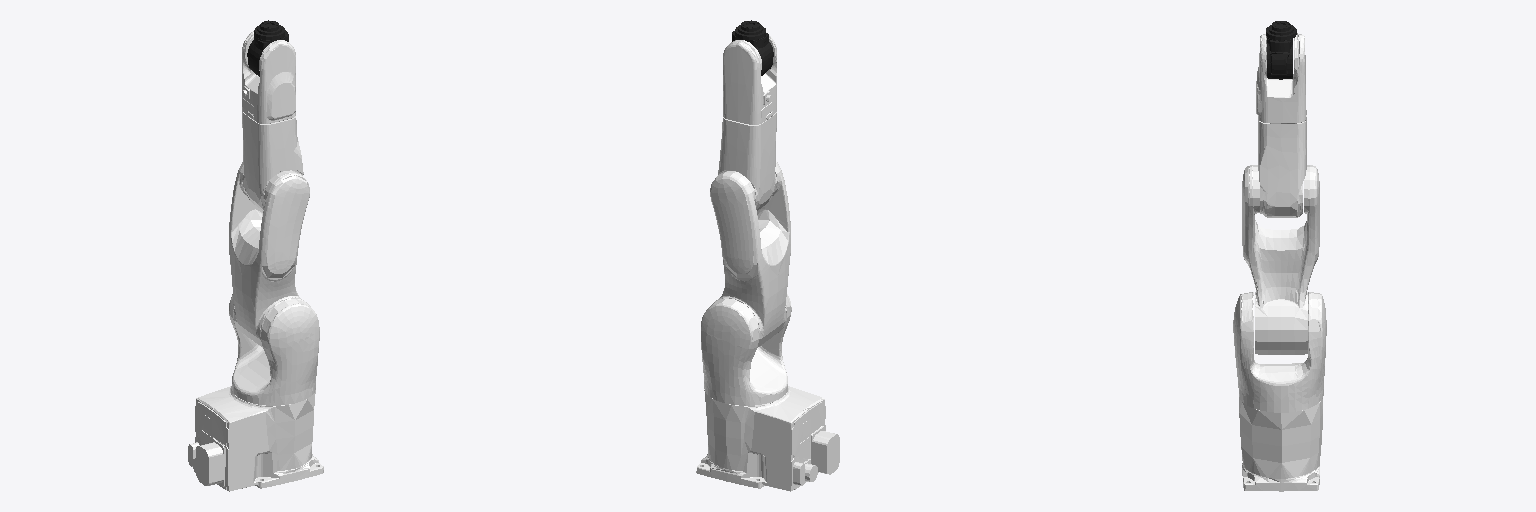
URDF robot description (vs060):
<?xml version="1.0" ?>
<robot name="vs060">
	<material name="black">
		<color rgba="0.2 0.2 0.2 1.0"/>
	</material>
	<material name="blue">
		<color rgba="0.0 0.0 0.8 1.0"/>
	</material>
	<material name="green">
		<color rgba="0.0 0.8 0.0 1.0"/>
	</material>
	<material name="grey">
		<color rgba="0.2 0.2 0.2 1.0"/>
	</material>
	<material name="red">
		<color rgba="0.8 0.0 0.0 1.0"/>
	</material>
	<material name="red_transparent">
		<color rgba="0.8 0.0 0.0 0.5"/>
	</material>
	<material name="white">
		<color rgba="1.0 1.0 1.0 1.0"/>
	</material>
	<material name="orange">
		<color rgba="1.0 0.423529411765 0.0392156862745 1.0"/>
	</material>
	<material name="brown">
		<color rgba="0.870588235294 0.811764705882 0.764705882353 1.0"/>
	</material>
	<material name="metal">
		<color rgba="0.827450980392 0.827450980392 0.827450980392 1.0"/>
	</material>
	<material name="wood">
		<color rgba="0.803921568627 0.521568627451 0.247058823529 1.0"/>
	</material>
	
	<gazebo>
		<plugin filename="libgazebo_ros_control.so" name="gazebo_ros_control">
			<robotNamespace>/vs060</robotNamespace>
		</plugin>
	</gazebo>
	<link name="world_1" />
	<joint name="joint_w" type="fixed">
		<parent link="world_1" />
		<child link="base_link" />
	</joint>
	<link name="base_link">
		<visual>
			<origin rpy="0 0 0" xyz="0 0 0" />
			<geometry>
				<mesh filename="package://denso060/base_link.obj" scale="1 1 1" />
			</geometry>
			<material name="white"/>
		</visual>
		<collision>
			<origin rpy="0 0 0" xyz="0 0 0" />
			<geometry>
				<mesh filename="package://denso060/base_link.obj" scale="1 1 1" />
			</geometry>
		</collision>
		<inertial>
			<mass value="1" />
			<origin rpy="0.000000 0.000000 0.000000" xyz="0.000000 0.000000 0.000000" />
			<inertia ixx="1" ixy="0" ixz="0" iyy="1" iyz="0" izz="1" />
		</inertial>
	</link>
	<link name="J1">
		<visual>
			<origin rpy="0 0 0" xyz="0 0 0" />
			<geometry>
				<mesh filename="package://denso060/J1.obj" scale="1 1 1" />
			</geometry>
			<material name="white"/>
		</visual>
		<collision>
			<origin rpy="0 0 0" xyz="0 0 0" />
			<geometry>
				<mesh filename="package://denso060/J1.obj" scale="1 1 1" />
			</geometry>
		</collision>
		<inertial>
			<mass value="1" />
			<origin rpy="0.000000 0.000000 0.000000" xyz="0.000000 0.000000 0.000000" />
			<inertia ixx="1" ixy="0" ixz="0" iyy="1" iyz="0" izz="1" />
		</inertial>
	</link>
	<joint name="joint_1" type="revolute">
		<parent link="base_link" />
		<child link="J1" />
		<origin rpy="0.000000 0.000000 0.000000" xyz="0.000000 0.000000 0.181500" />
		<axis xyz="-0.000000 -0.000000 1.000000" />
		<limit effort="1" lower="-2.96706" upper="2.96706" velocity="3.92699081698724" />
		<dynamics damping="0" friction="0" />
	</joint>
	<transmission name="trans_1">
		<type>transmission_interface/SimpleTransmission</type>
		<joint name="joint_1">
			<hardwareInterface>PositionJointInterface</hardwareInterface>
		</joint>
		<actuator name="motor_1">
			<hardwareInterface>PositionJointInterface</hardwareInterface>
			<mechanicalReduction>1</mechanicalReduction>
		</actuator>
	</transmission>
	<link name="J2">
		<visual>
			<origin rpy="0 0 0" xyz="0 0 0" />
			<geometry>
				<mesh filename="package://denso060/J2.obj" scale="1 1 1" />
			</geometry>
			<material name="white"/>
		</visual>
		<collision>
			<origin rpy="0 0 0" xyz="0 0 0" />
			<geometry>
				<mesh filename="package://denso060/J2.obj" scale="1 1 1" />
			</geometry>
		</collision>
		<inertial>
			<mass value="1" />
			<origin rpy="0.000000 0.000000 0.000000" xyz="0.000000 0.000000 0.000000" />
			<inertia ixx="1" ixy="0" ixz="0" iyy="1" iyz="0" izz="1" />
		</inertial>
	</link>
	<joint name="joint_2" type="revolute">
		<parent link="J1" />
		<child link="J2" />
		<origin rpy="0.000000 0.000000 0.000000" xyz="0.000000 0.000000 0.163500" />
		<axis xyz="-0.000000 1.000000 -0.000000" />
		<limit effort="1" lower="-2.094395" upper="2.094395" velocity="2.61799387799149" />
		<dynamics damping="0" friction="0" />
	</joint>
	<transmission name="trans_2">
		<type>transmission_interface/SimpleTransmission</type>
		<joint name="joint_2">
			<hardwareInterface>PositionJointInterface</hardwareInterface>
		</joint>
		<actuator name="motor_2">
			<hardwareInterface>PositionJointInterface</hardwareInterface>
			<mechanicalReduction>1</mechanicalReduction>
		</actuator>
	</transmission>
	<link name="J3">
		<visual>
			<origin rpy="0 0 0" xyz="0 0 0" />
			<geometry>
				<mesh filename="package://denso060/J3.obj" scale="1 1 1" />
			</geometry>
			<material name="white"/>
		</visual>
		<collision>
			<origin rpy="0 0 0" xyz="0 0 0" />
			<geometry>
				<mesh filename="package://denso060/J3.obj" scale="1 1 1" />
			</geometry>
		</collision>
		<inertial>
			<mass value="1" />
			<origin rpy="0.000000 0.000000 0.000000" xyz="0.000000 0.000000 0.000000" />
			<inertia ixx="1" ixy="0" ixz="0" iyy="1" iyz="0" izz="1" />
		</inertial>
	</link>
	<joint name="joint_3" type="revolute">
		<parent link="J2" />
		<child link="J3" />
		<origin rpy="0.000000 0.000000 0.000000" xyz="0.000000 0.000000 0.305000" />
		<axis xyz="-0.000000 1.000000 -0.000000" />
		<limit effort="1" lower="-2.181662" upper="2.70526" velocity="2.85832571599111" />
		<dynamics damping="0" friction="0" />
	</joint>
	<transmission name="trans_3">
		<type>transmission_interface/SimpleTransmission</type>
		<joint name="joint_3">
			<hardwareInterface>PositionJointInterface</hardwareInterface>
		</joint>
		<actuator name="motor_3">
			<hardwareInterface>PositionJointInterface</hardwareInterface>
			<mechanicalReduction>1</mechanicalReduction>
		</actuator>
	</transmission>
	<link name="J4">
		<visual>
			<origin rpy="0 0 0" xyz="0 0 0" />
			<geometry>
				<mesh filename="package://denso060/J4.obj" scale="1 1 1" />
			</geometry>
			<material name="white"/>
		</visual>
		<collision>
			<origin rpy="0 0 0" xyz="0 0 0" />
			<geometry>
				<mesh filename="package://denso060/J4.obj" scale="1 1 1" />
			</geometry>
		</collision>
		<inertial>
			<mass value="1" />
			<origin rpy="0.000000 0.000000 0.000000" xyz="0.000000 0.000000 0.000000" />
			<inertia ixx="1" ixy="0" ixz="0" iyy="1" iyz="0" izz="1" />
		</inertial>
	</link>
	<joint name="joint_4" type="revolute">
		<parent link="J3" />
		<child link="J4" />
		<origin rpy="0.000000 0.000000 0.000000" xyz="-0.010000 0.000000 0.164500" />
		<axis xyz="-0.000000 -0.000000 1.000000" />
		<limit effort="1" lower="-4.712389" upper="4.712389" velocity="3.92699081698724" />
		<dynamics damping="0" friction="0" />
	</joint>
	<transmission name="trans_4">
		<type>transmission_interface/SimpleTransmission</type>
		<joint name="joint_4">
			<hardwareInterface>PositionJointInterface</hardwareInterface>
		</joint>
		<actuator name="motor_4">
			<hardwareInterface>PositionJointInterface</hardwareInterface>
			<mechanicalReduction>1</mechanicalReduction>
		</actuator>
	</transmission>
	<link name="J5">
		<visual>
			<origin rpy="0 0 0" xyz="0 0 0" />
			<geometry>
				<mesh filename="package://denso060/J5.obj" scale="1 1 1" />
			</geometry>
			<material name="black"/>
		</visual>
		<collision>
			<origin rpy="0 0 0" xyz="0 0 0" />
			<geometry>
				<mesh filename="package://denso060/J5.obj" scale="1 1 1" />
			</geometry>
		</collision>
		<inertial>
			<mass value="1" />
			<origin rpy="0.000000 0.000000 0.000000" xyz="0.000000 0.000000 0.000000" />
			<inertia ixx="1" ixy="0" ixz="0" iyy="1" iyz="0" izz="1" />
		</inertial>
	</link>
	<joint name="joint_5" type="revolute">
		<parent link="J4" />
		<child link="J5" />
		<origin rpy="0.000000 0.000000 0.000000" xyz="0.000000 0.000000 0.135500" />
		<axis xyz="-0.000000 1.000000 -0.000000" />
		<limit effort="1" lower="-2.094395" upper="2.094395" velocity="3.02168853397778" />
		<dynamics damping="0" friction="0" />
	</joint>
	<transmission name="trans_5">
		<type>transmission_interface/SimpleTransmission</type>
		<joint name="joint_5">
			<hardwareInterface>PositionJointInterface</hardwareInterface>
		</joint>
		<actuator name="motor_5">
			<hardwareInterface>PositionJointInterface</hardwareInterface>
			<mechanicalReduction>1</mechanicalReduction>
		</actuator>
	</transmission>
	<link name="J6">
		<visual>
			<origin rpy="0 0 0" xyz="0 0 0" />
			<geometry>
				<mesh filename="package://denso060/J6.obj" scale="1 1 1" />
			</geometry>
			<material name="black"/>
		</visual>
		<collision>
			<origin rpy="0 0 0" xyz="0 0 0" />
			<geometry>
				<mesh filename="package://denso060/J6.obj" scale="1 1 1" />
			</geometry>
		</collision>
		<inertial>
			<mass value="1" />
			<origin rpy="0.000000 0.000000 0.000000" xyz="0.000000 0.000000 0.000000" />
			<inertia ixx="1" ixy="0" ixz="0" iyy="1" iyz="0" izz="1" />
		</inertial>
	</link>
	<joint name="joint_6" type="revolute">
		<parent link="J5" />
		<child link="J6" />
		<origin rpy="0.000000 0.000000 0.000000" xyz="0.000000 0.000000 0.070000" />
		<axis xyz="-0.000000 -0.000000 1.000000" />
		<limit effort="1" lower="-6.283185" upper="6.283185" velocity="6.28318530717959" />
		<dynamics damping="0" friction="0" />
	</joint>
	<transmission name="trans_6">
		<type>transmission_interface/SimpleTransmission</type>
		<joint name="joint_6">
			<hardwareInterface>PositionJointInterface</hardwareInterface>
		</joint>
		<actuator name="motor_6">
			<hardwareInterface>PositionJointInterface</hardwareInterface>
			<mechanicalReduction>1</mechanicalReduction>
		</actuator>
	</transmission>
</robot>

--- What the picture shows (computed from the rendered views, not written in the file) ---
3 views of the same robot in one strip: view 1: azimuth 30°, elevation 25°; view 2: azimuth 150°, elevation 25°; view 3: azimuth 270°, elevation 25° (orthographic).
Model vs060 with 8 links and 7 joints (6 revolute, 1 fixed), rooted at world_1, posed all joints at 0.
Links seen in each view (by area): view 1: base_link, J2, J1, J4, J3, J5; view 2: base_link, J2, J1, J4, J3, J5; view 3: J2, base_link, J1, J3, J4, J5.
Link boxes in pixels (x1=…): base_link: x1=188, y1=386, x2=323, y2=491; J2: x1=229, y1=162, x2=309, y2=347; J1: x1=229, y1=294, x2=319, y2=405; J4: x1=242, y1=31, x2=295, y2=123; J3: x1=242, y1=112, x2=303, y2=210; J5: x1=247, y1=25, x2=288, y2=76; base_link: x1=696, y1=386, x2=839, y2=491; J2: x1=710, y1=161, x2=790, y2=347; J1: x1=701, y1=294, x2=791, y2=405; J4: x1=723, y1=32, x2=776, y2=124; J3: x1=718, y1=112, x2=777, y2=210; J5: x1=732, y1=24, x2=773, y2=75; J2: x1=1242, y1=165, x2=1319, y2=354; base_link: x1=1239, y1=397, x2=1322, y2=491; J1: x1=1233, y1=292, x2=1326, y2=412; J3: x1=1258, y1=115, x2=1306, y2=217; J4: x1=1256, y1=33, x2=1306, y2=123; J5: x1=1266, y1=25, x2=1296, y2=79.
Size in the robot's own frame: 0.278 by 0.1922 by 1.02 metres.
Meshes: 7 distinct files referenced, 7 mesh visuals loaded (7 OBJ).
